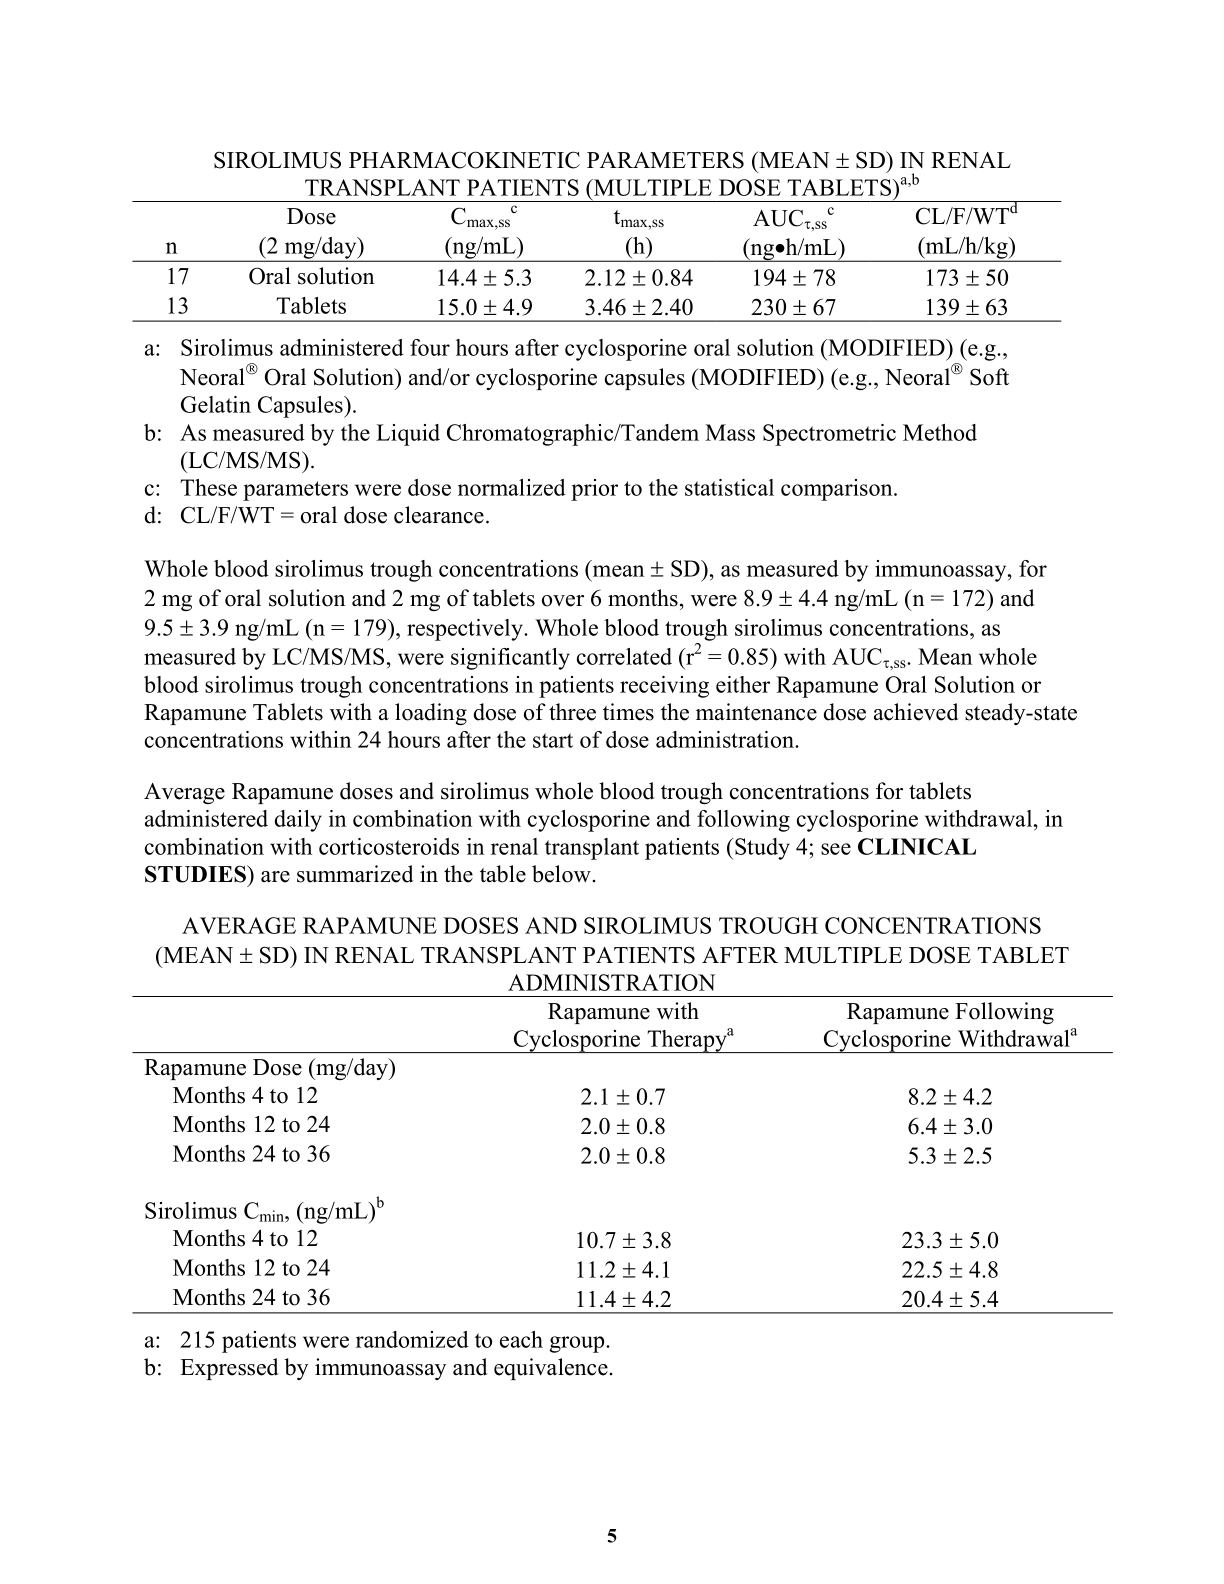partial_lined: (132, 994, 1113, 1317), (131, 199, 1062, 323)
